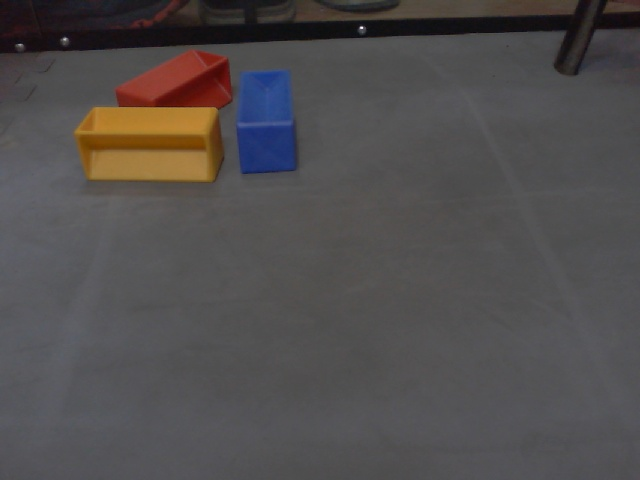BlueSample: (233, 68, 297, 175)
RedSample: (114, 48, 233, 121)
YellowSample: (71, 105, 223, 185)
